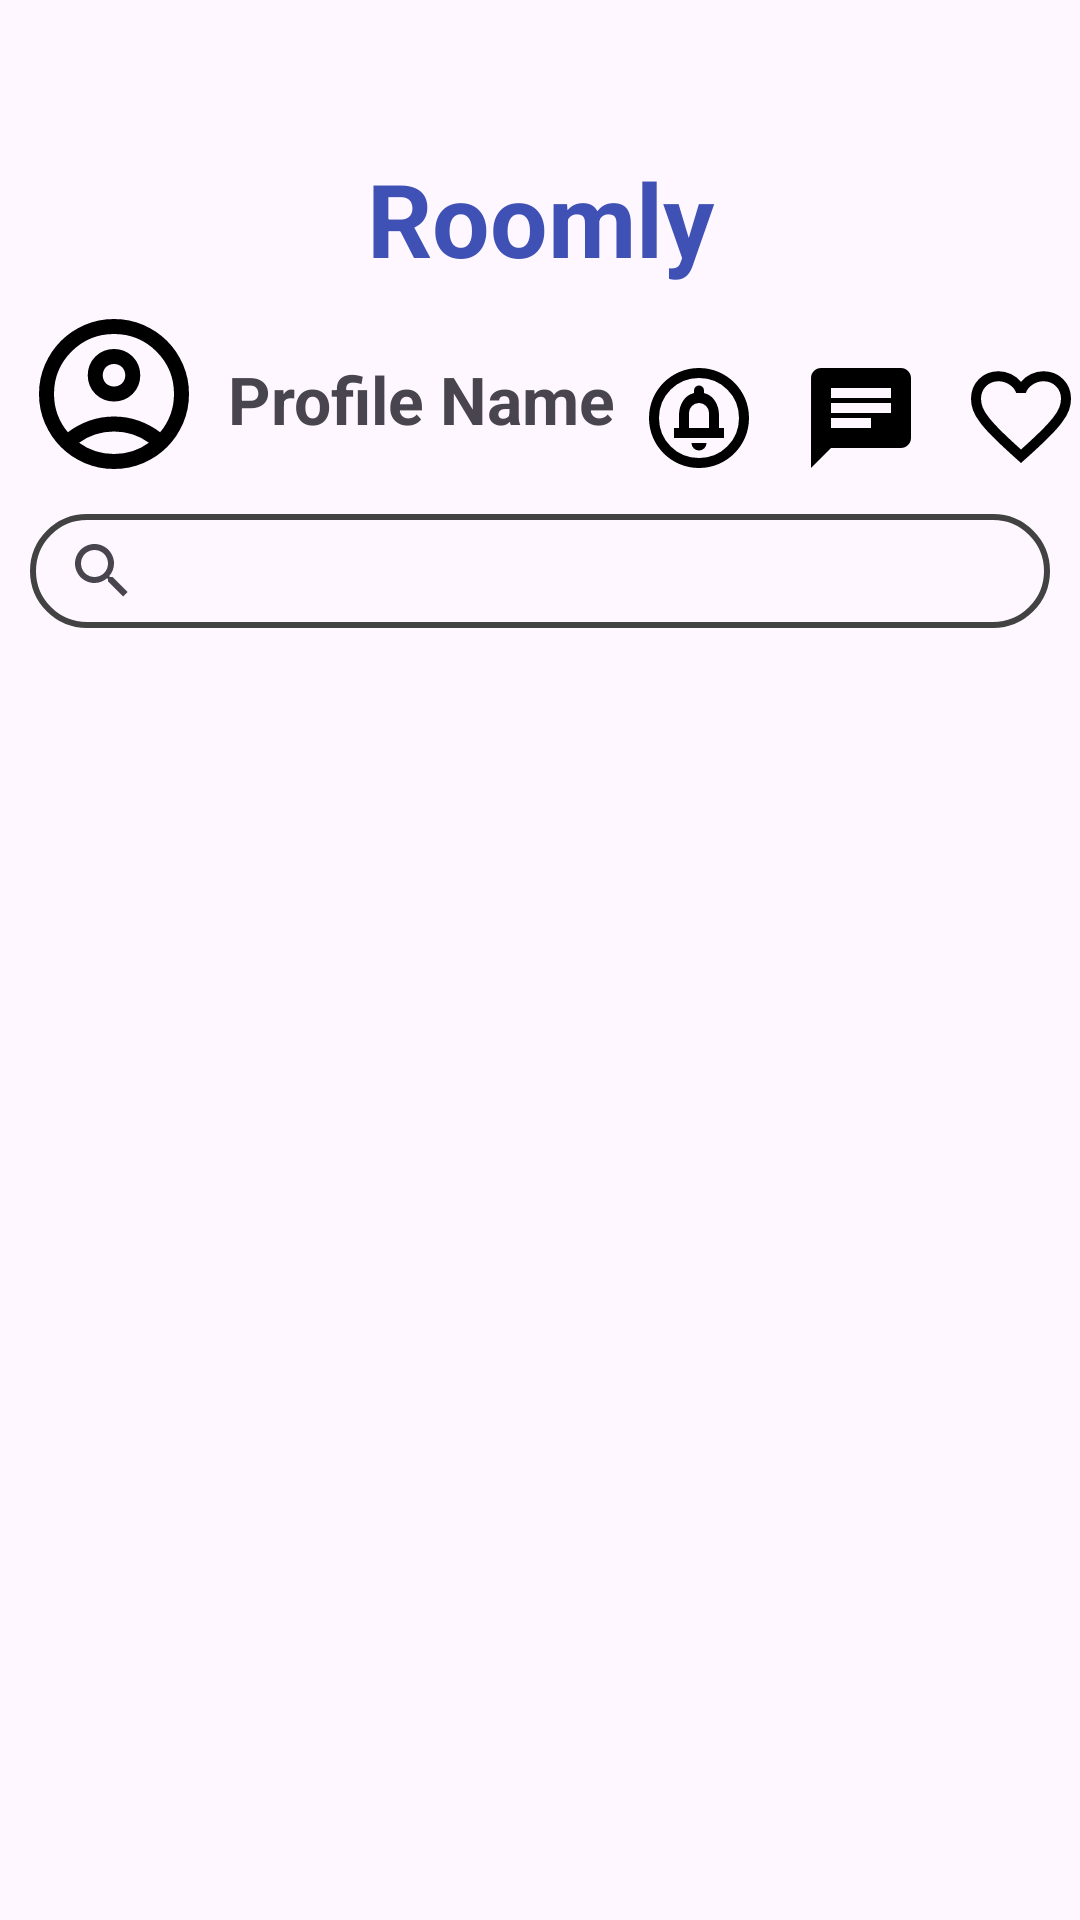

Screen size 1080w x 1920h. Icon name, then its center in pixels as (x=x, y=y):
account circle: (x=114, y=394)
chat: (x=861, y=418)
notification: (x=699, y=418)
